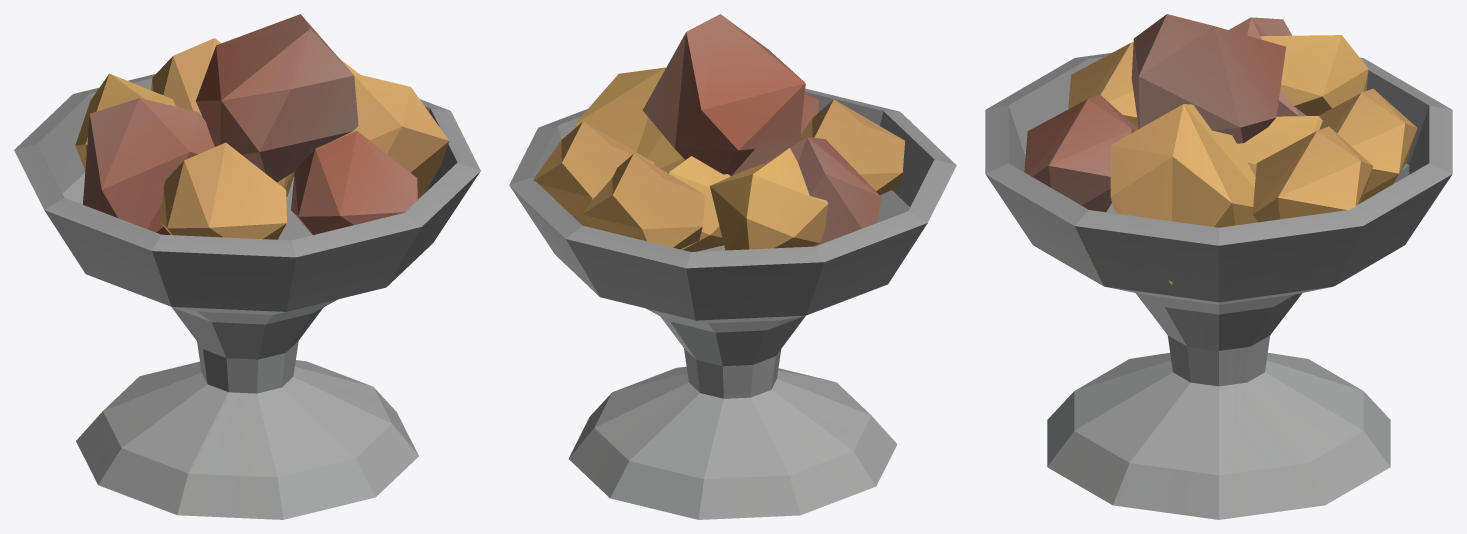
The model's file is dumplingbowl.glb.
3 views of the same model, side by side, from view 1: azimuth 30°, elevation 25°; view 2: azimuth 150°, elevation 25°; view 3: azimuth 270°, elevation 25° (orthographic). The views are drawn at different scales.
Parts seen in each view (by area): view 1: DumplingBowl_mesh1; view 2: DumplingBowl_mesh1; view 3: DumplingBowl_mesh1.
Boxes of the visible parts, x1,y1,x2,y2 form: DumplingBowl_mesh1: (14,14,480,519); DumplingBowl_mesh1: (509,14,956,519); DumplingBowl_mesh1: (985,14,1452,519).
Size of the model in its own units: 0.3069 by 0.3095 by 0.2919.
1 material, 1 textured.
